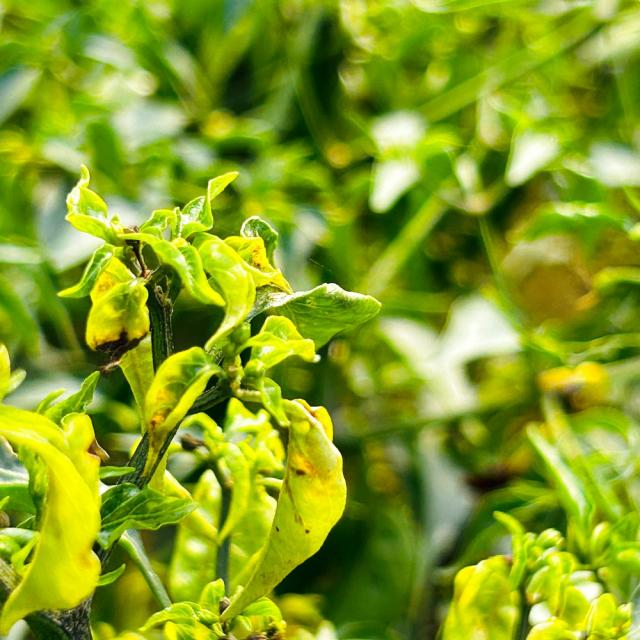Chilli_Leaf_Curl: (1, 1, 638, 638), (1, 163, 382, 636), (436, 422, 638, 639), (0, 344, 109, 636), (217, 397, 347, 624), (119, 344, 230, 490)
